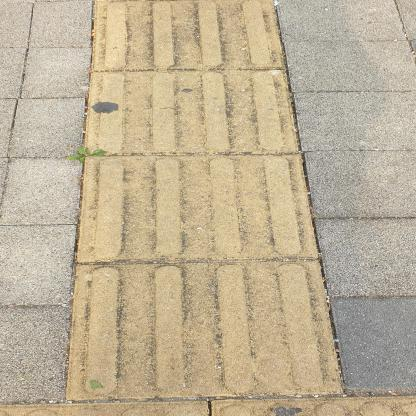podotacti: (43, 0, 352, 401)
